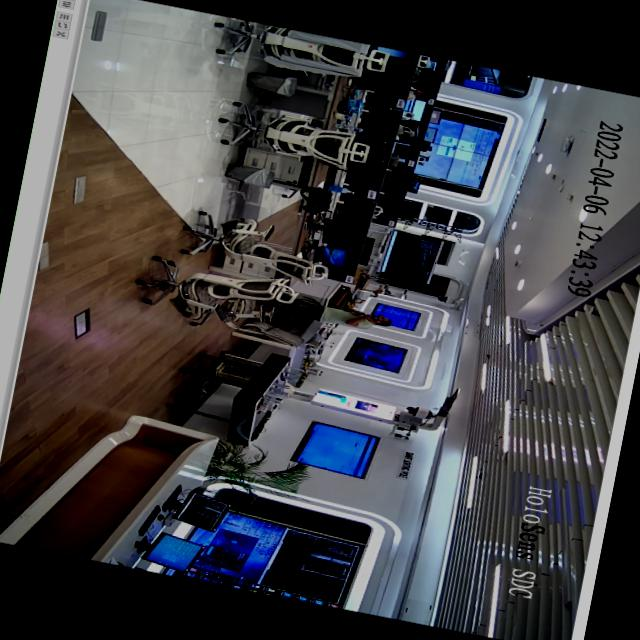long weapon: (354, 312, 380, 322)
